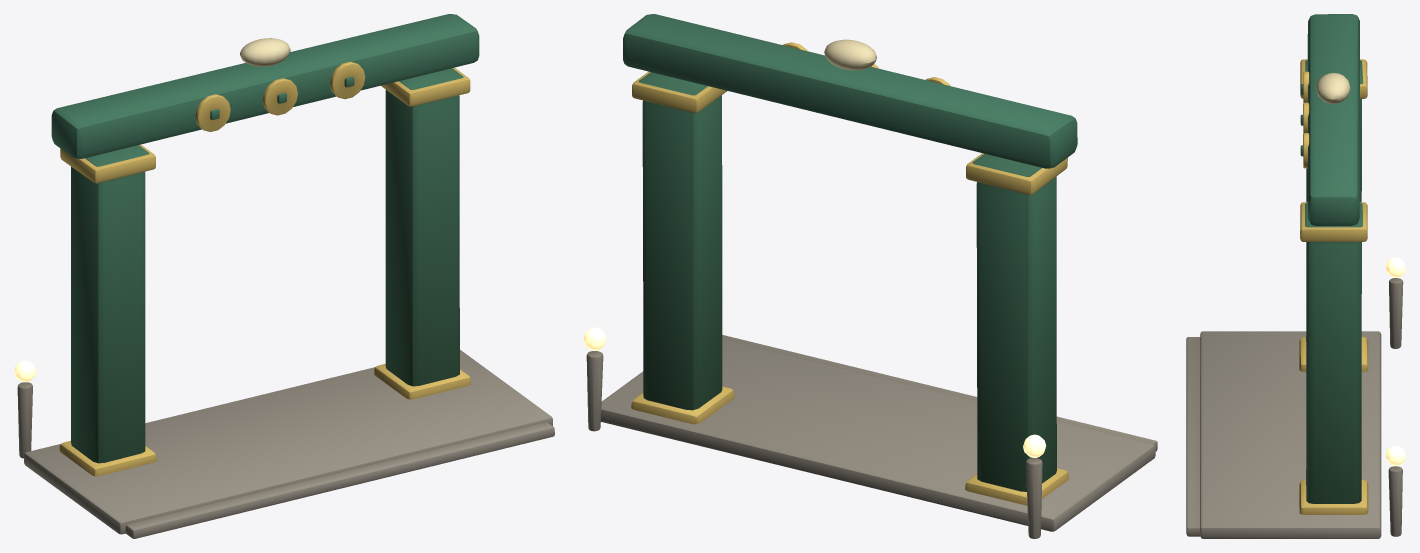
3 views of the same model, side by side, from view 1: azimuth 30°, elevation 25°; view 2: azimuth 150°, elevation 25°; view 3: azimuth 270°, elevation 25° (orthographic). The views are drawn at different scales.
Parts seen in each view (by area): view 1: gate_640f5c95; view 2: gate_640f5c95; view 3: gate_640f5c95.
Boxes of the visible parts, x1=… form: gate_640f5c95: x1=14, y1=14, x2=554, y2=538; gate_640f5c95: x1=583, y1=14, x2=1157, y2=538; gate_640f5c95: x1=1186, y1=14, x2=1405, y2=538.
Size of the model in its own units: 5.42 by 4.66 by 2.55.
